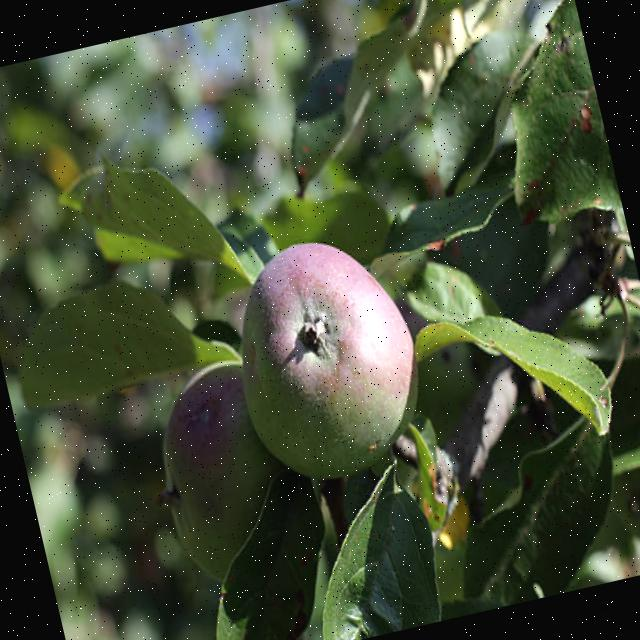Unripe: (212, 219, 443, 496)
